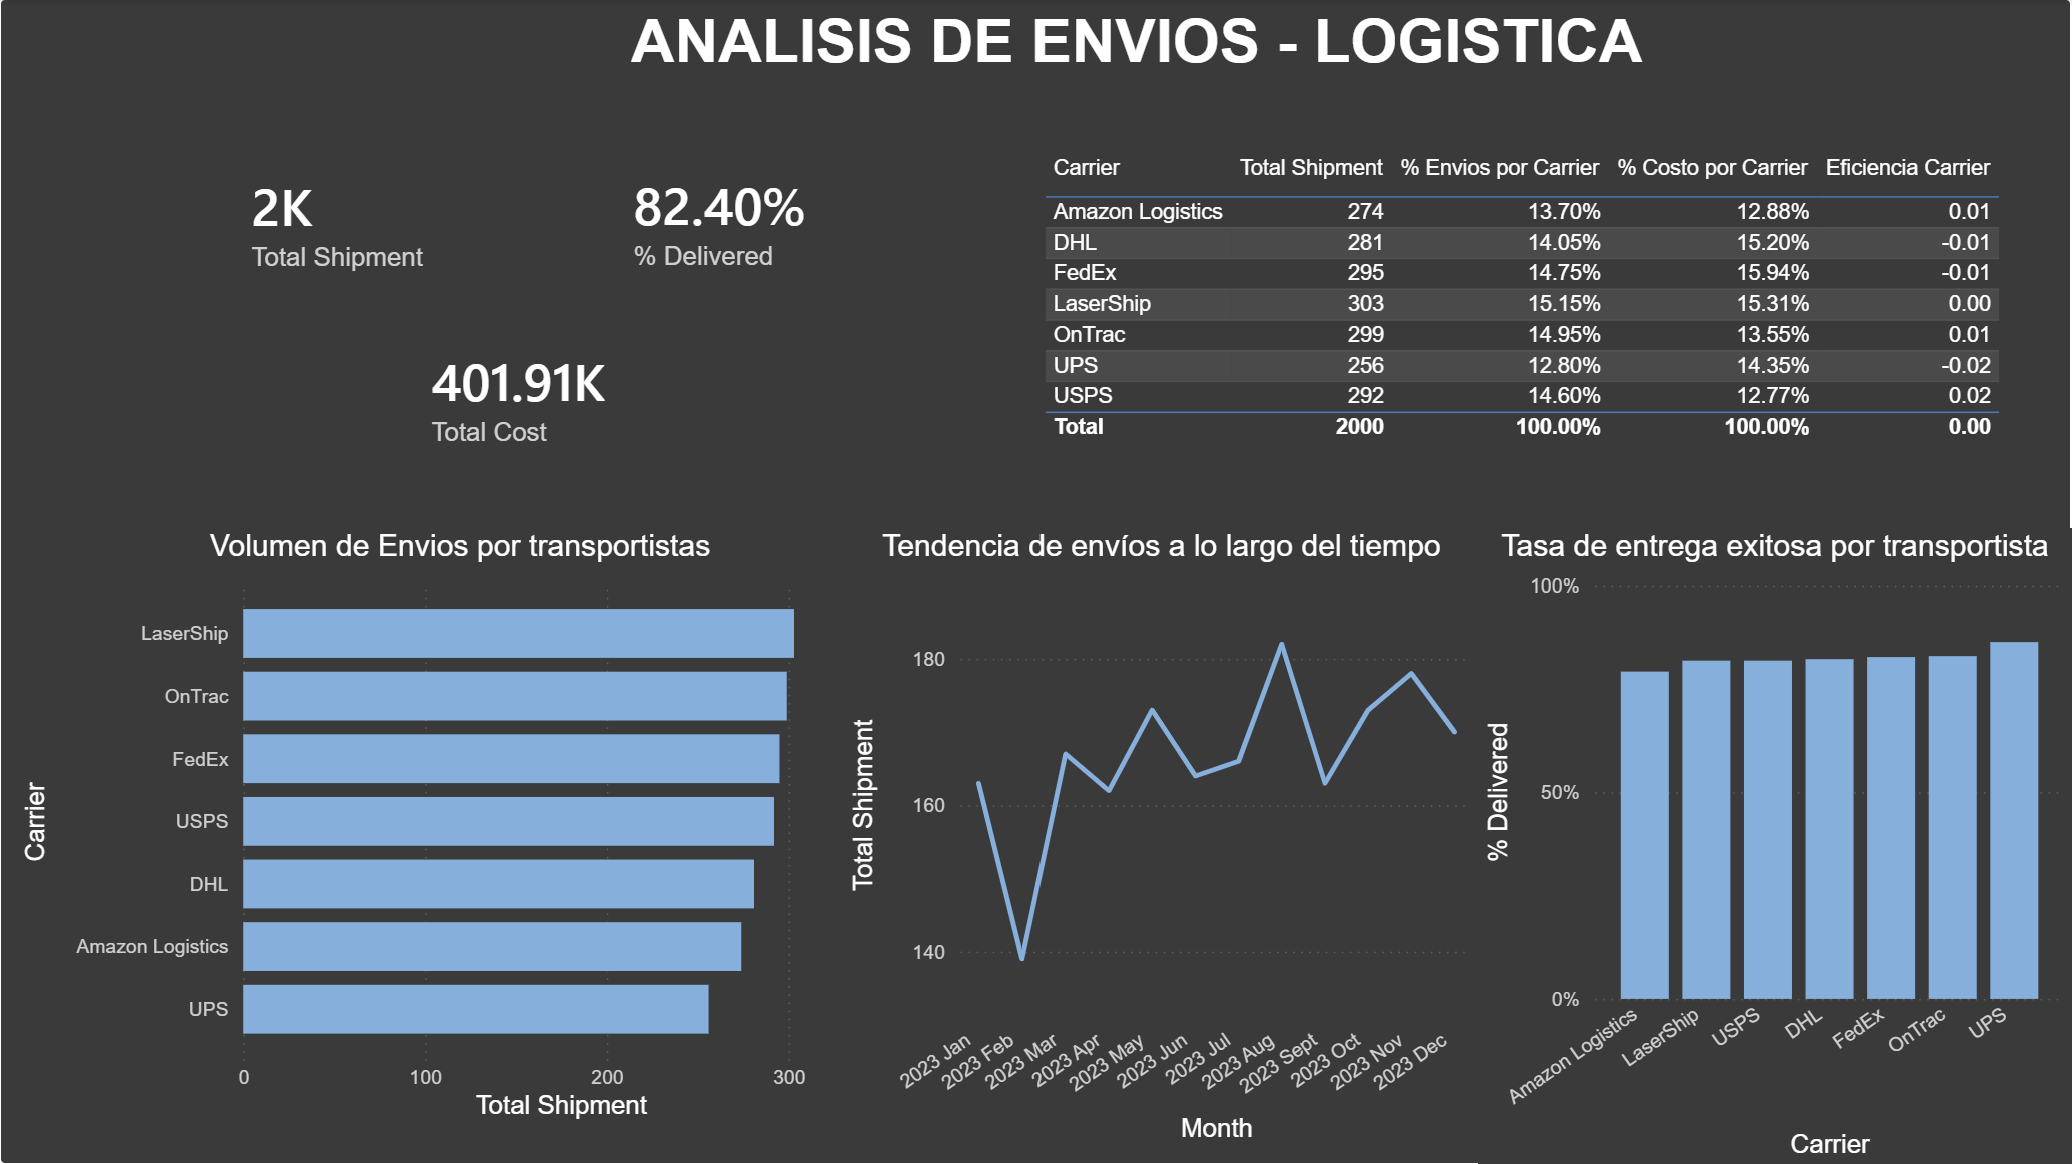

The dashboard page shown, as its layout file describes it:
{"tool":"powerbi","page":{"name":"Page 1","canvas":[1280,720],"ordinal":0},"visuals":[{"type":"cardVisual","fields":{"Data":["logistics_shipments_dataset.% Delivered"]},"box":[362,80.3,180.4,112.4],"z":0},{"type":"cardVisual","fields":{"Data":["logistics_shipments_dataset.Total Cost"]},"box":[237.1,194.3,175.7,102.9],"z":1000},{"type":"clusteredBarChart","title":"Volumen de Envios por transportistas","fields":{"Y":["logistics_shipments_dataset.Total Shipment"],"Category":["logistics_shipments_dataset.Carrier"]},"box":[10,327.1,550,370],"z":2000},{"type":"lineChart","title":"Tendencia de envíos a lo largo del tiempo","fields":{"Y":["logistics_shipments_dataset.Total Shipment"],"Category":["Calendar.Month"]},"box":[521.4,327.1,392.9,384.3],"z":3000},{"type":"clusteredColumnChart","title":"Tasa de entrega exitosa por transportista","fields":{"Category":["logistics_shipments_dataset.Carrier"],"Y":["logistics_shipments_dataset.% Delivered"]},"box":[912.9,327.1,367.1,394.3],"z":4000},{"type":"tableEx","fields":{"Values":["logistics_shipments_dataset.Carrier","logistics_shipments_dataset.Total Shipment","logistics_shipments_dataset.% Envios por Carrier","logistics_shipments_dataset.% Costo por Carrier","logistics_shipments_dataset.Eficiencia Carrier"]},"box":[640,91.4,634.3,205.7],"z":5000},{"type":"textbox","box":[385.7,0,702.9,80],"z":6000},{"type":"cardVisual","fields":{"Data":["logistics_shipments_dataset.Total Shipment"]},"box":[126,79.1,168,116.1],"z":7000}]}

Visuals, with their boxes in screenshot pixels (x1, y1, x2, y2), scaled from the page's 1280x720 canvas onto the 2072x1164 screenshot:
cardVisual - logistics_shipments_dataset.% Delivered: {"x1": 586, "y1": 130, "x2": 878, "y2": 312}
cardVisual - logistics_shipments_dataset.Total Cost: {"x1": 384, "y1": 314, "x2": 668, "y2": 480}
"Volumen de Envios por transportistas" clusteredBarChart: {"x1": 16, "y1": 529, "x2": 906, "y2": 1127}
"Tendencia de envíos a lo largo del tiempo" lineChart: {"x1": 844, "y1": 529, "x2": 1480, "y2": 1150}
"Tasa de entrega exitosa por transportista" clusteredColumnChart: {"x1": 1478, "y1": 529, "x2": 2071, "y2": 1163}
tableEx - logistics_shipments_dataset.Carrier x logistics_shipments_dataset.Total Shipment: {"x1": 1036, "y1": 148, "x2": 2063, "y2": 480}
textbox: {"x1": 624, "y1": 0, "x2": 1762, "y2": 129}
cardVisual - logistics_shipments_dataset.Total Shipment: {"x1": 204, "y1": 128, "x2": 476, "y2": 316}
